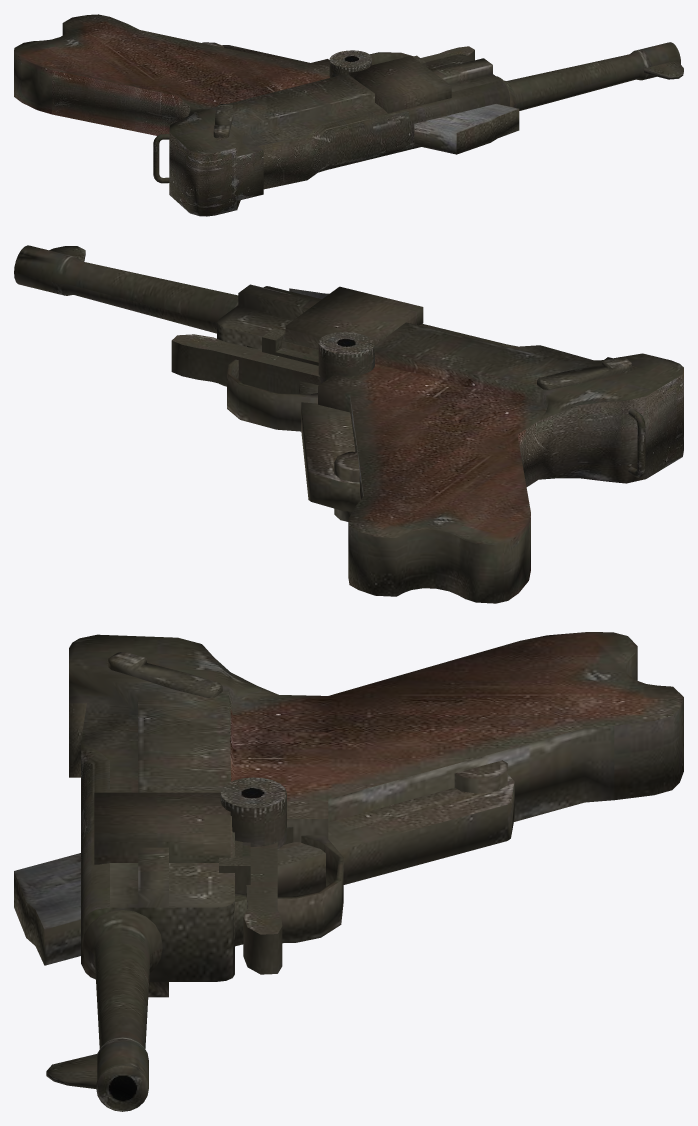
The model's file is viewmodel_luger.glb.
3 renders of one model, top to bottom at view 1: azimuth 30°, elevation 25°; view 2: azimuth 150°, elevation 25°; view 3: azimuth 270°, elevation 25°, orthographic. The views are drawn at different scales.
Bounding box in the file's own units: 9.01 × 1.18 × 6.09.
Materials: 1 (1 with a texture image).
